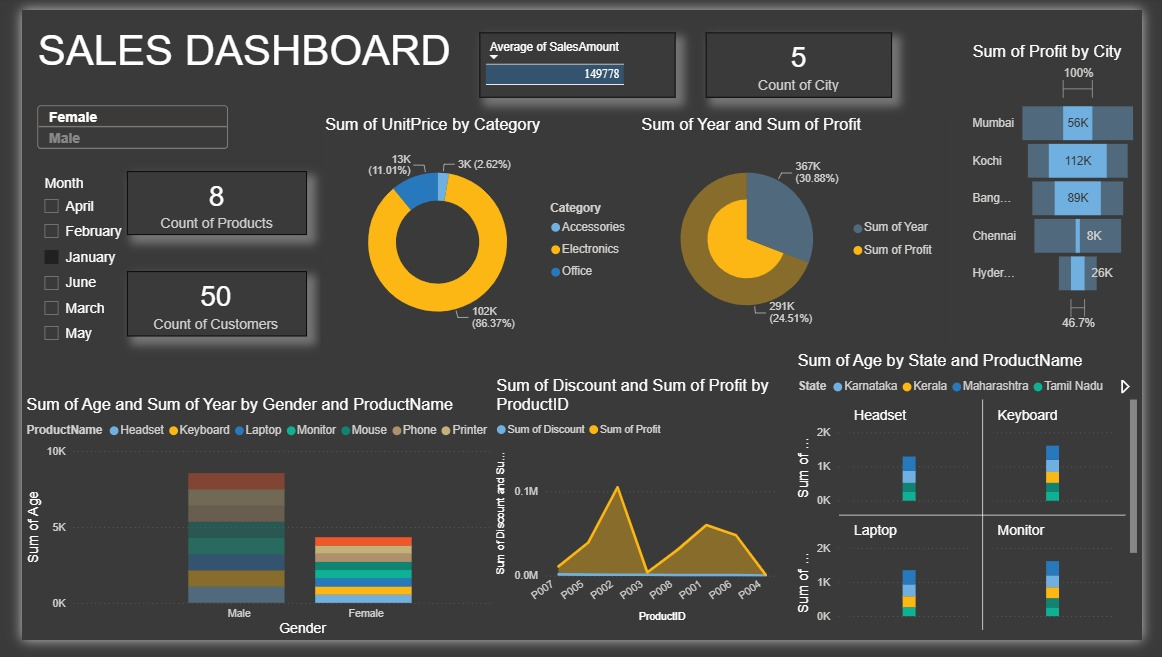

The dashboard page shown, as its layout file describes it:
{"tool":"powerbi","page":{"name":"Page 1","canvas":[1280,720],"ordinal":0},"visuals":[{"type":"columnChart","fields":{"Category":["Customers (2).Gender"],"Series":["Products (2).ProductName"],"Y":["Sum(Customers (2).Age)"]},"box":[0,440,587.1,280],"z":0},{"type":"pieChart","fields":{"Y":["Sum(Dates.Year)","Sum(Sales.Profit)"]},"box":[702.9,120,351.4,262.9],"z":1000},{"type":"funnel","fields":{"Y":["Sum(Sales.Profit)"],"Category":["Customers (2).City"]},"box":[1081.4,37.1,198.6,335.7],"z":2000},{"type":"ribbonChart","fields":{"Series":["Customers.State"],"Rows":["Products.ProductName"],"Y":["Sum(Customers.Age)"]},"box":[881.4,390,398.6,324.3],"z":4000},{"type":"stackedAreaChart","fields":{"Y":["Sum(Sales (2).Discount)","Sum(Sales (2).Profit)"],"Category":["Sales (2).ProductID"]},"box":[537.1,418.6,331.4,285.7],"z":5001},{"type":"slicer","fields":{"Values":["Dates (2).Month"]},"box":[12.9,184.3,107.1,214.3],"z":5002},{"type":"textbox","box":[12.9,14.3,498.6,70],"z":5003},{"type":"cardVisual","fields":{"Rows":["Customers (2).Gender"]},"box":[12.9,84.3,227.1,100],"z":5004},{"type":"card","fields":{"Values":["Count(Customers)"]},"box":[120,298.6,205.7,74.3],"z":5005},{"type":"tableEx","fields":{"Values":["Sales.SalesAmount"]},"box":[522.9,25.7,224.3,74.3],"z":5006},{"type":"donutChart","fields":{"Series":["Products (2).Category"],"Y":["Sum(Products (2).UnitPrice)"]},"box":[341.4,120,361.4,270],"z":5007},{"type":"card","fields":{"Values":["Count(Products)"]},"box":[120,184.3,205.7,72.9],"z":5008},{"type":"card","fields":{"Values":["Count(Customers.City)"]},"box":[781.4,25.7,212.9,74.3],"z":5009}]}

Visuals, with their boxes in screenshot pixels (x1, y1, x2, y2), scaled from the page's 1280x720 canvas onto the 1162x657 screenshot:
columnChart - Customers (2).Gender x Products (2).ProductName: pyautogui.locateOnScreen(0, 402, 533, 656)
pieChart - Sum(Dates.Year) x Sum(Sales.Profit): pyautogui.locateOnScreen(638, 110, 957, 349)
funnel - Sum(Sales.Profit) x Customers (2).City: pyautogui.locateOnScreen(982, 34, 1161, 340)
ribbonChart - Customers.State x Products.ProductName: pyautogui.locateOnScreen(800, 356, 1161, 652)
stackedAreaChart - Sum(Sales (2).Discount) x Sum(Sales (2).Profit): pyautogui.locateOnScreen(488, 382, 788, 643)
slicer - Dates (2).Month: pyautogui.locateOnScreen(12, 168, 109, 364)
textbox: pyautogui.locateOnScreen(12, 13, 464, 77)
cardVisual - Customers (2).Gender: pyautogui.locateOnScreen(12, 77, 218, 168)
card - Count(Customers): pyautogui.locateOnScreen(109, 272, 296, 340)
tableEx - Sales.SalesAmount: pyautogui.locateOnScreen(475, 23, 678, 91)
donutChart - Products (2).Category x Sum(Products (2).UnitPrice): pyautogui.locateOnScreen(310, 110, 638, 356)
card - Count(Products): pyautogui.locateOnScreen(109, 168, 296, 235)
card - Count(Customers.City): pyautogui.locateOnScreen(709, 23, 903, 91)
